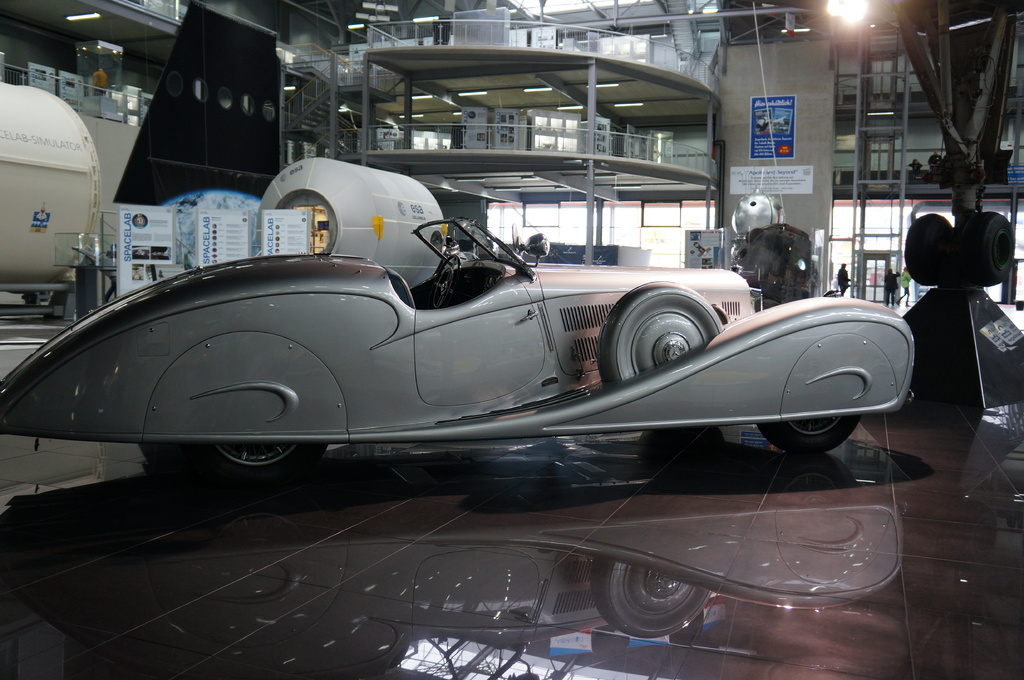Car: (0, 205, 917, 453)
